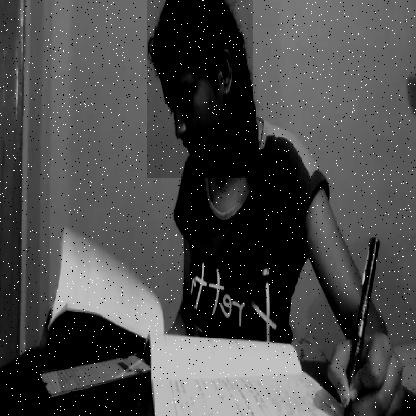Distracted: (147, 0, 253, 178)
